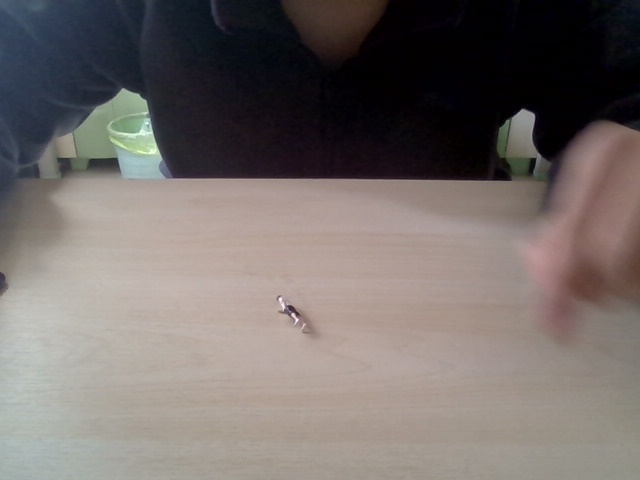fall: (271, 289, 313, 339)
